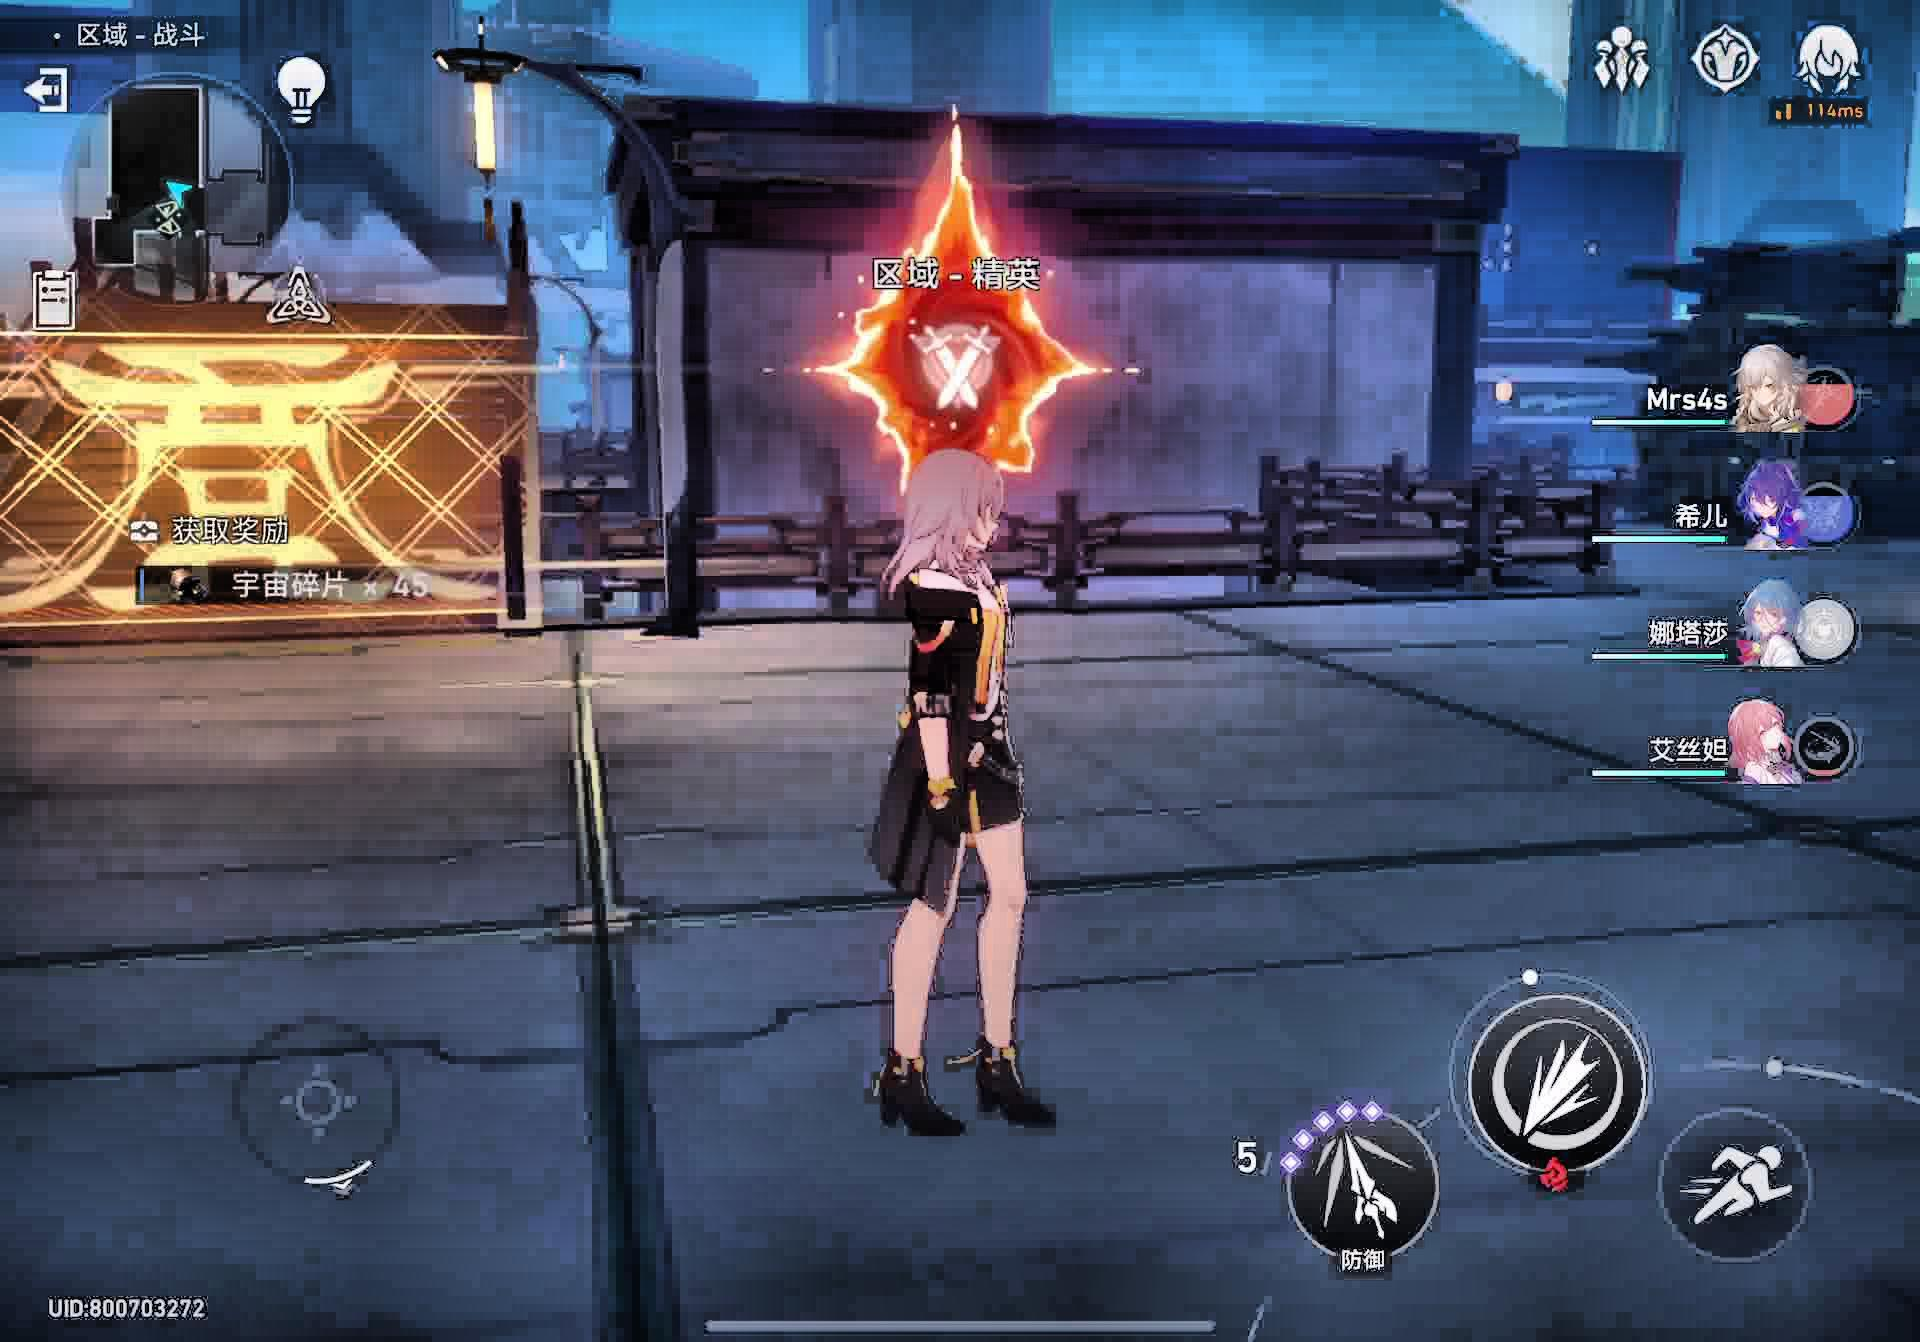BattleDoor: (814, 128, 1109, 556)
Self: (848, 464, 1059, 1129)
